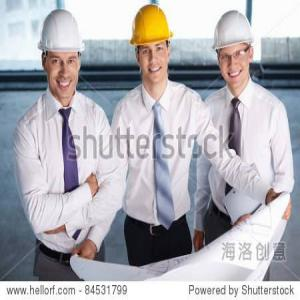white: (39, 11, 86, 102), (213, 10, 256, 91)
yellow: (130, 6, 176, 85)
